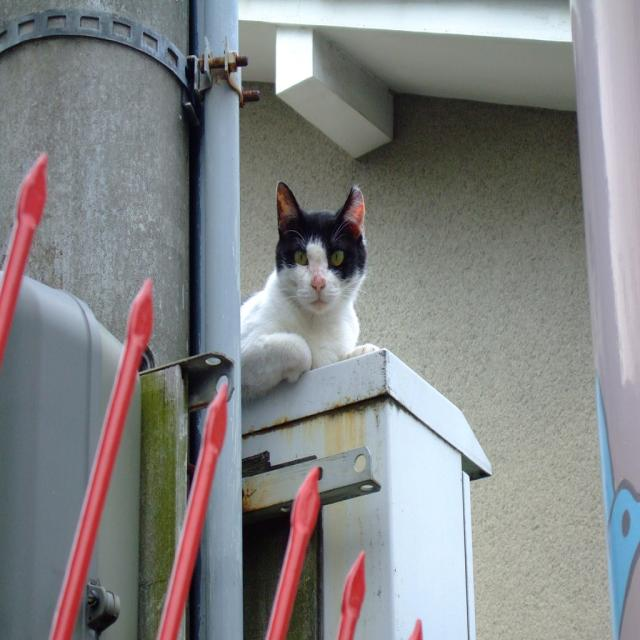cat: (240, 180, 380, 402)
